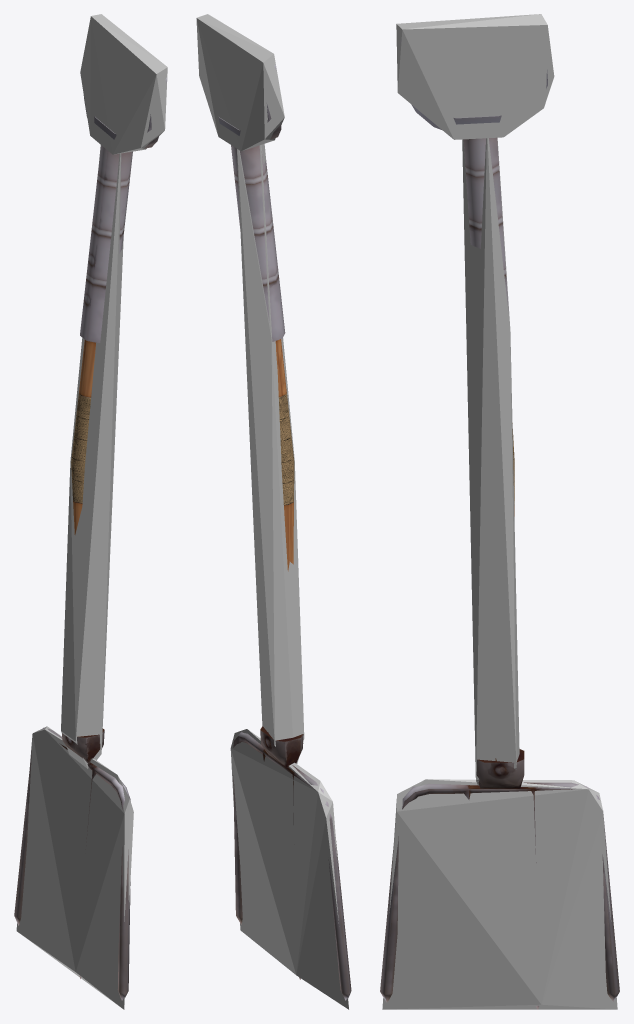
The model's file is SM_Tools01_2.fbx.
The picture shows the model from 3 angles, left to right: view 1: azimuth 30°, elevation 25°; view 2: azimuth 210°, elevation 25°; view 3: azimuth 270°, elevation 25°; orthographic projection. The views are drawn at different scales.
Parts seen in each view (by area): view 1: SM_Tools01_2_ConvexHulls, SM_Tools01_2; view 2: SM_Tools01_2_ConvexHulls, SM_Tools01_2; view 3: SM_Tools01_2_ConvexHulls, SM_Tools01_2.
Boxes of the visible parts, x1,y1,x2,y2 form: SM_Tools01_2_ConvexHulls: (16, 14, 167, 1009); SM_Tools01_2: (14, 77, 166, 1000); SM_Tools01_2_ConvexHulls: (196, 14, 348, 1009); SM_Tools01_2: (218, 64, 351, 1000); SM_Tools01_2_ConvexHulls: (382, 14, 617, 1009); SM_Tools01_2: (380, 39, 619, 1009).
Size of the model in its own units: 10.46 by 29.9 by 140.
2 materials, 1 textured.
